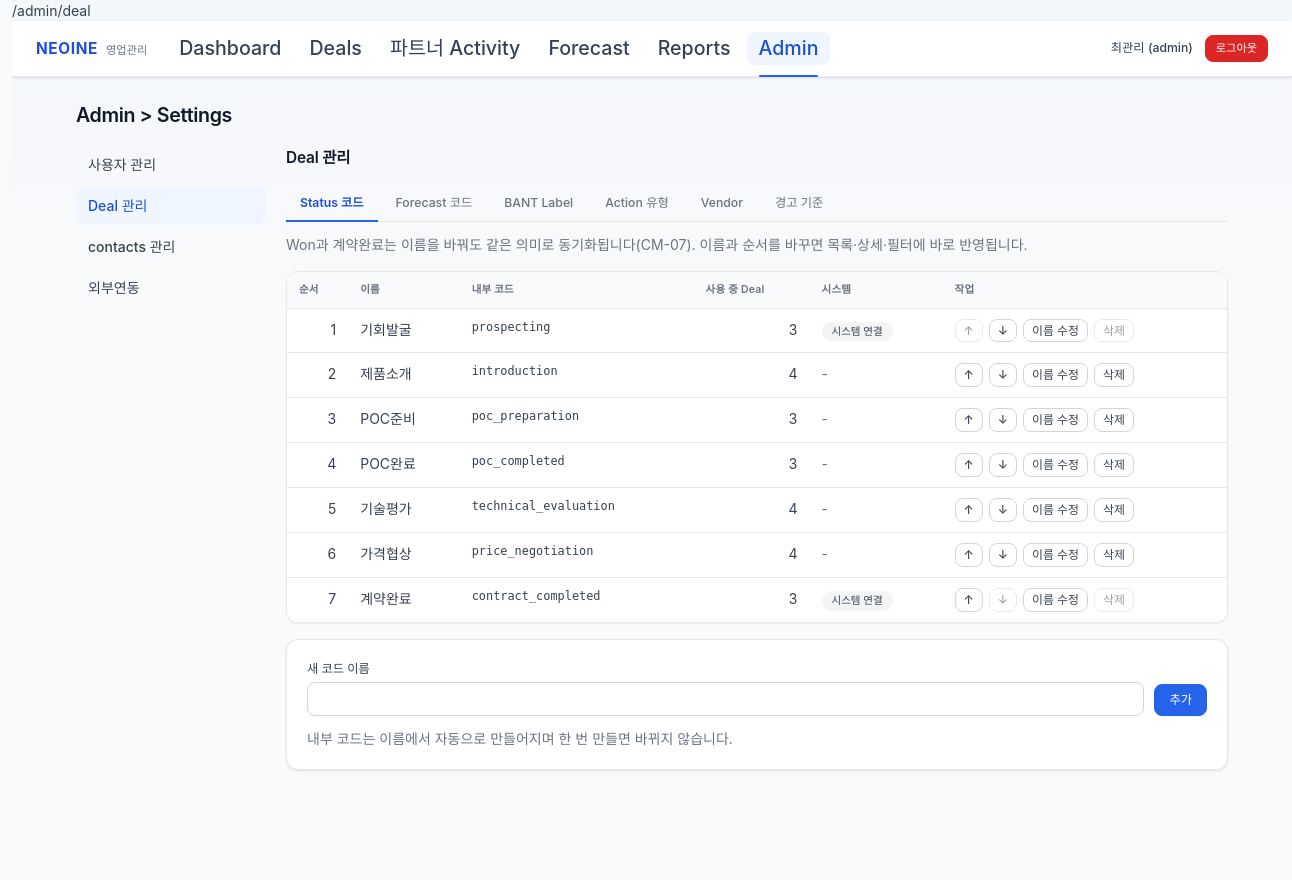
BANT Label 추가·수정 (T-LABEL-02~03) › lets the same name exist in a different category
Click the tab "BANT Label": [539, 204] box x1=490 y1=186 x2=587 y2=222
(page scrolled)
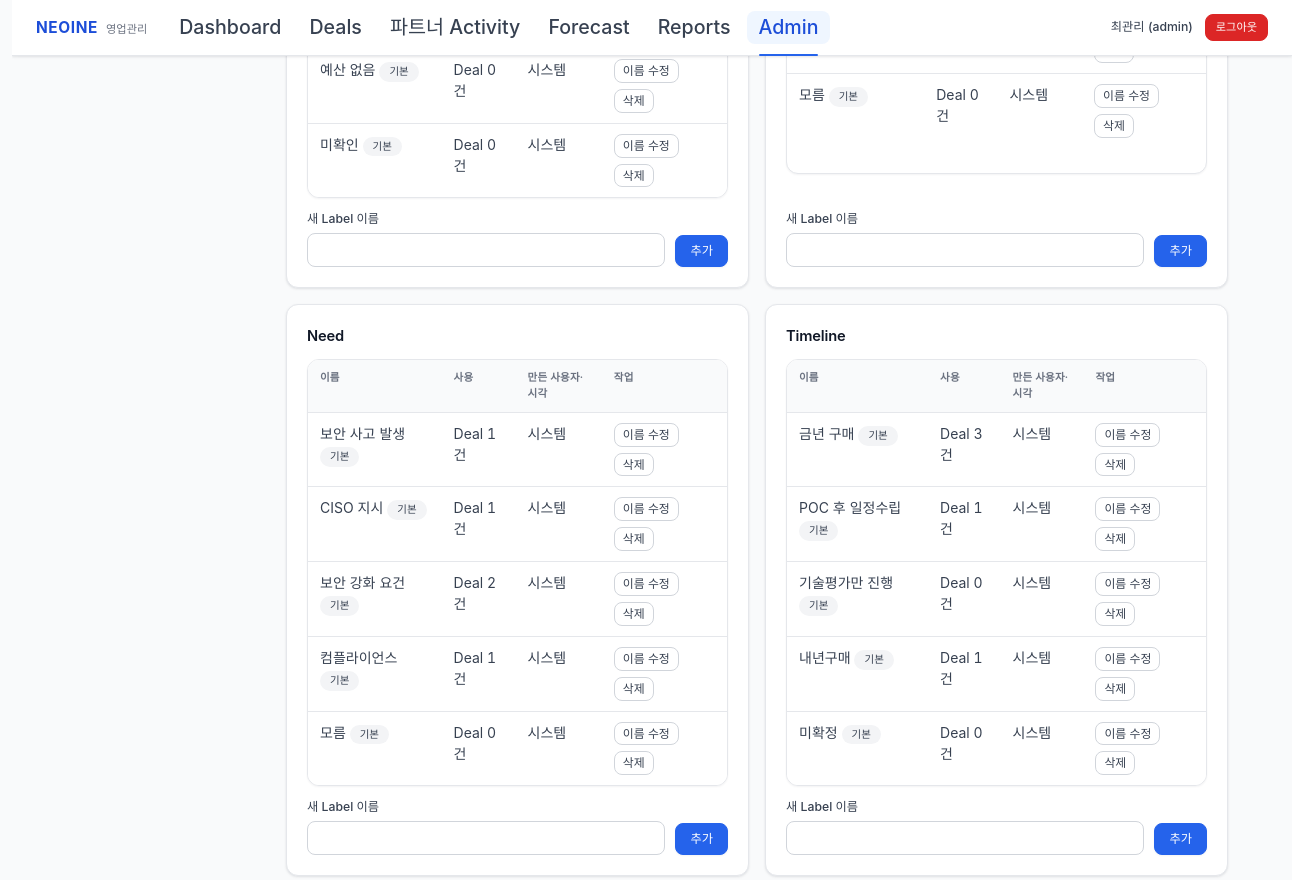
In the field labelled "새 Label 이름" below "컴플라이언스": [486, 838] box x1=307 y1=821 x2=666 y2=855, type "미확인"
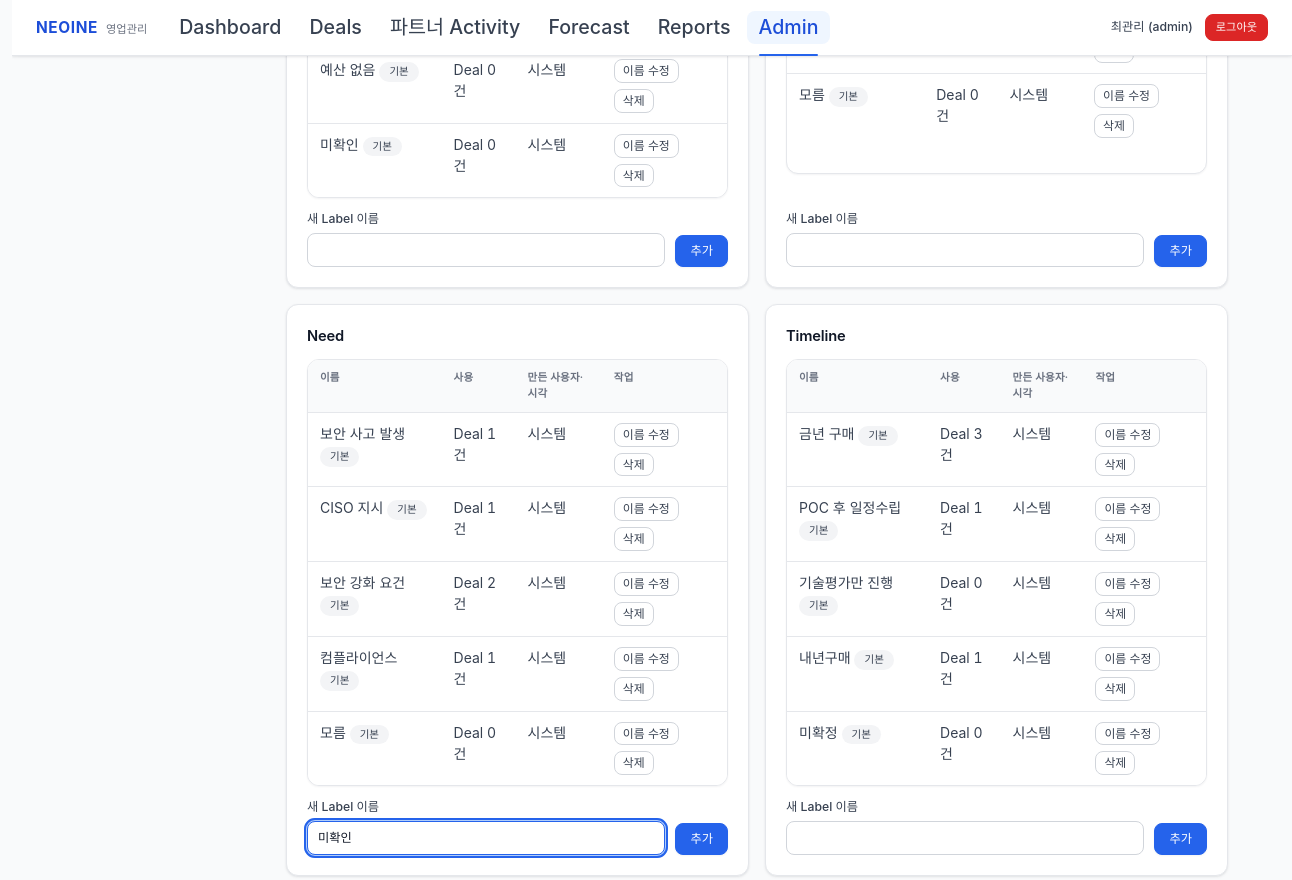
Click the 3rd button "추가": [702, 839] box x1=676 y1=823 x2=728 y2=855
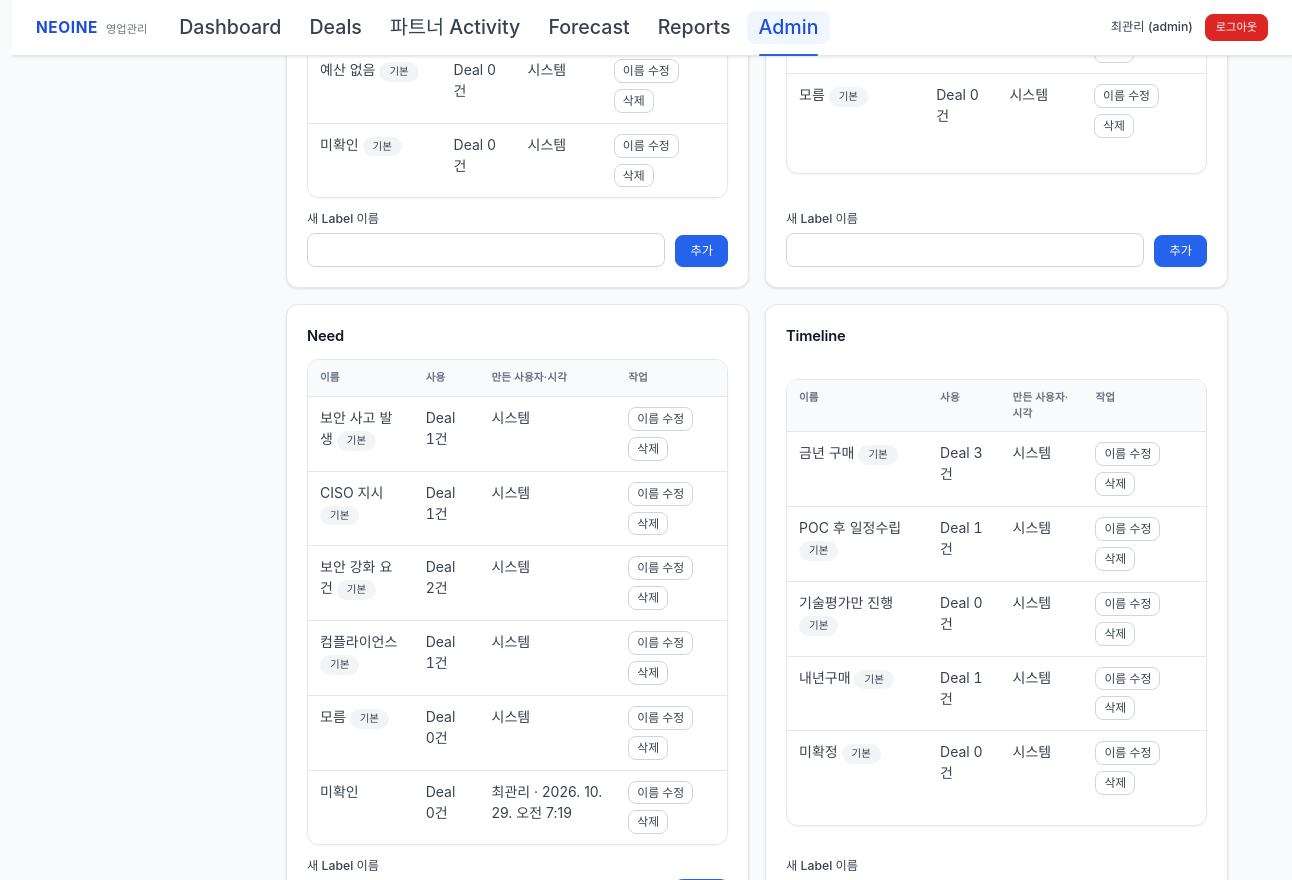
Expected: the text "미확인" is shown once, x1=308 y1=124 x2=442 y2=197
Result: the text "미확인" is shown at x1=308 y1=771 x2=414 y2=844
